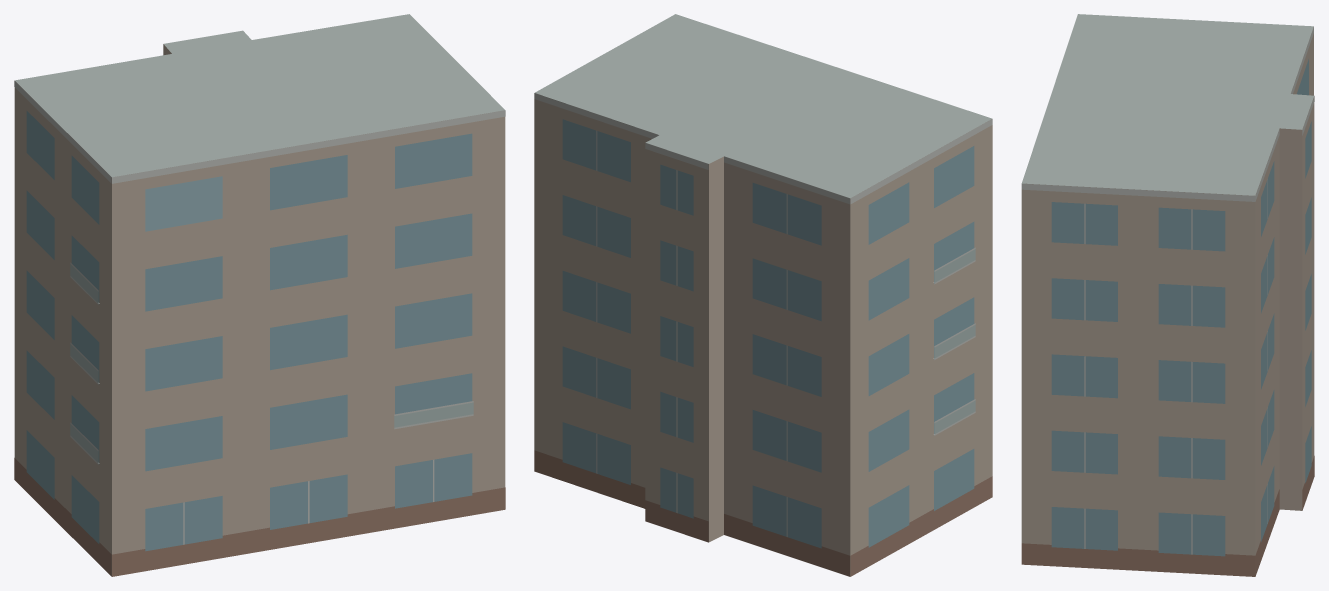
The model's file is survey-upis-32729990.glb.
3 renders of one model, left to right at view 1: azimuth 30°, elevation 25°; view 2: azimuth 150°, elevation 25°; view 3: azimuth 270°, elevation 25°, orthographic. The views are drawn at different scales.
Parts seen in each view (by area): view 1: survey-upis-32729990.tmp; view 2: survey-upis-32729990.tmp; view 3: survey-upis-32729990.tmp.
Boxes of the visible parts, x1,y1,x2,y2 form: survey-upis-32729990.tmp: (14, 14, 505, 576); survey-upis-32729990.tmp: (534, 14, 992, 576); survey-upis-32729990.tmp: (1021, 14, 1314, 576).
Bounding box in the file's own units: 15.36 × 15 × 10.45.
